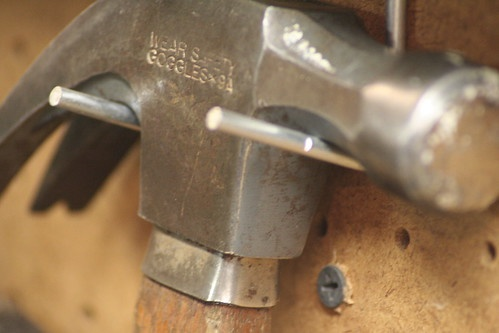hammer: (0, 1, 496, 333)
